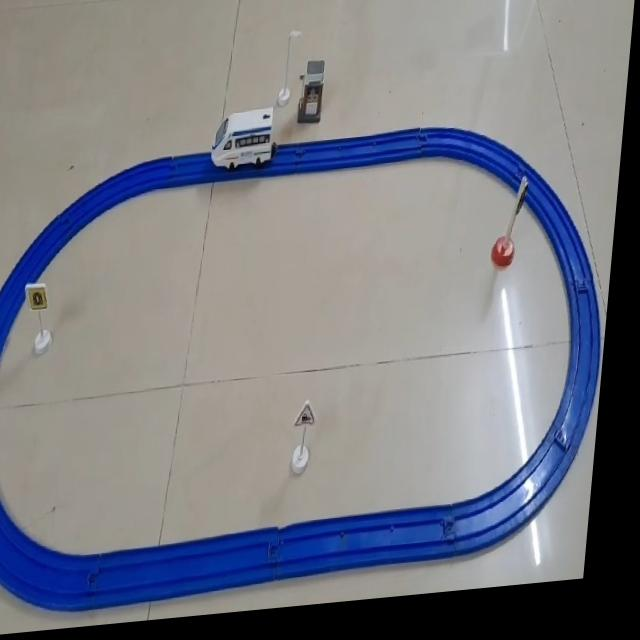bus: (212, 110, 283, 177)
